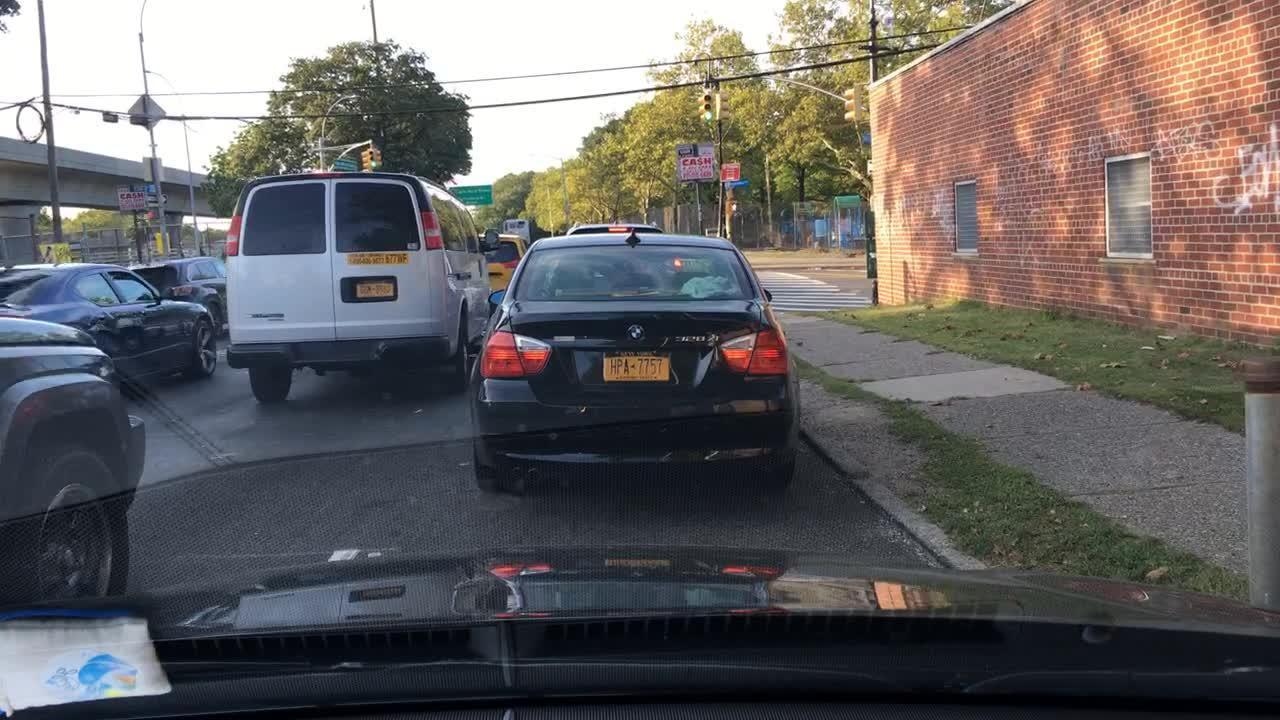bmw: (626, 321, 648, 344)
